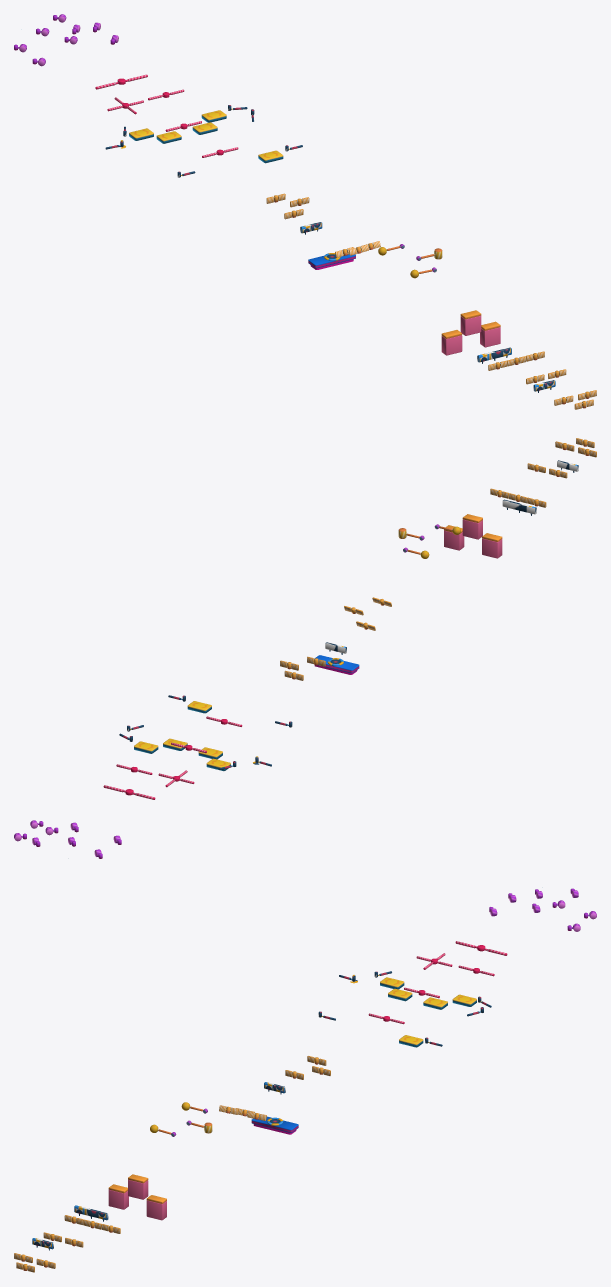
File: obstaculos.fbx
3 renders of one model, top to bottom at view 1: azimuth 30°, elevation 25°; view 2: azimuth 150°, elevation 25°; view 3: azimuth 330°, elevation 25°, orthographic.
Parts seen in each view (by area): view 1: no part large enough to name; view 2: no part large enough to name; view 3: Level5Visuals_Level5secondary_0.001.
Part boxes in pixels (x1=…): Level5Visuals_Level5secondary_0.001: x1=251, y1=1115, x2=298, y2=1134.
Size of the model in its own units: 3524 by 1631 by 22020.
21 materials, 17 textured.
